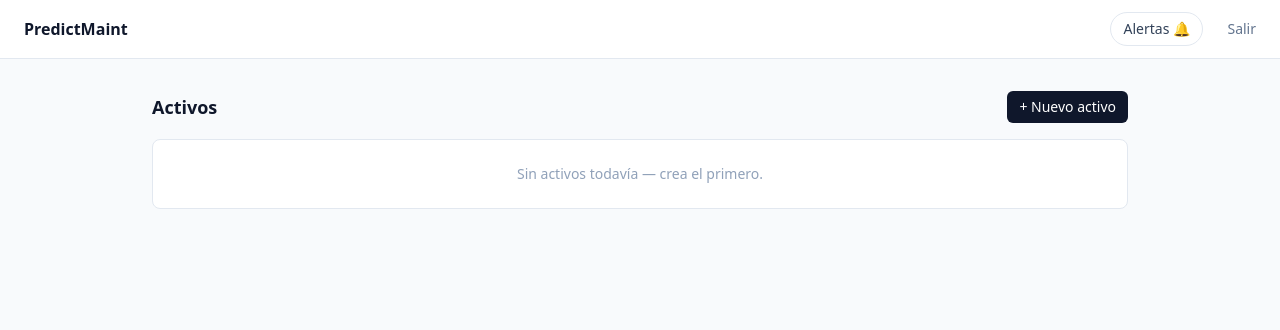
Scenario: AssetListPage › crea un activo nuevo y refresca la lista (UC de alta de activos)
Expected: the text "Sin activos todavía — crea el primero." is shown, [517,164,763,183]
Click the button "+ Nuevo activo". click: (1068, 107)
box: [1007,91,1128,123]
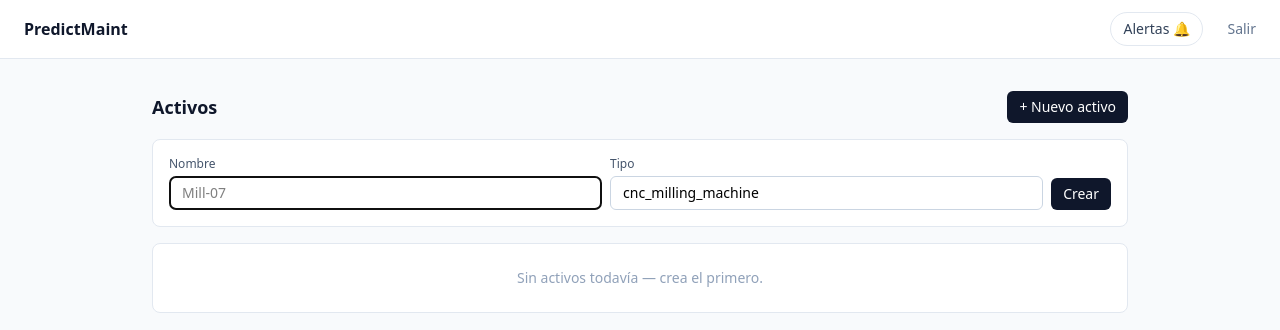
Type "Mill-01" into the field labelled "Nombre". click: (386, 193)
box: [169,176,602,210]
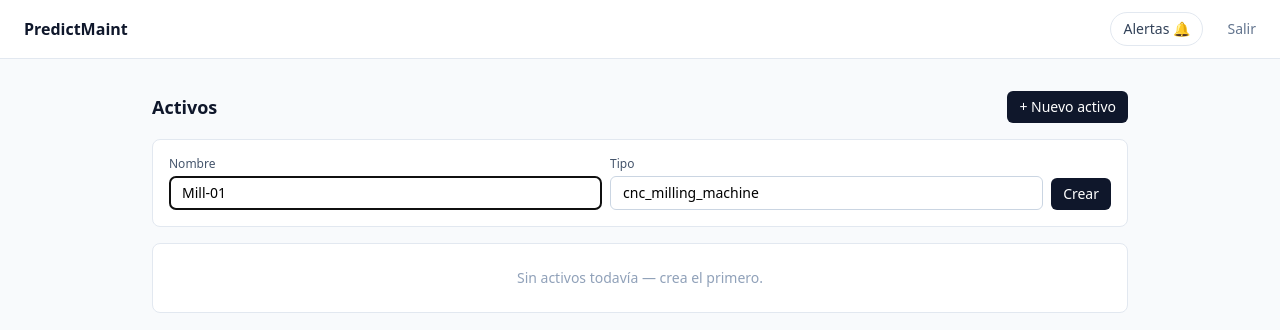
Click the button "Crear". click: (1081, 194)
box: [1051,178,1111,210]
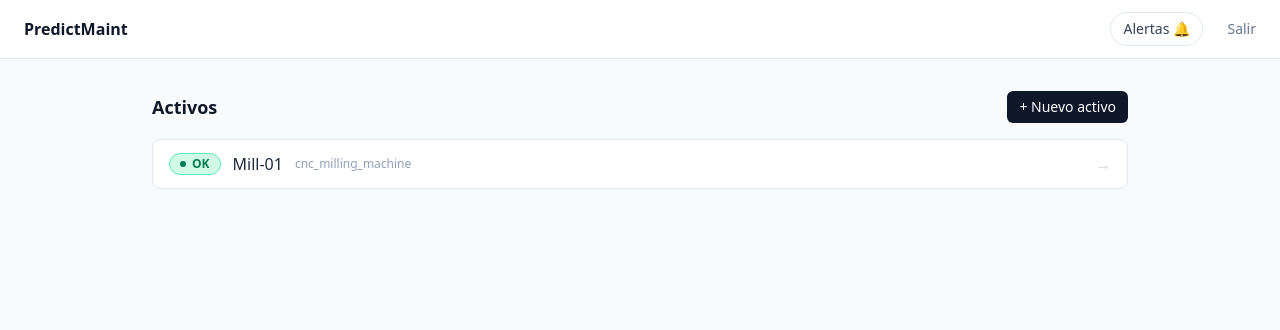
Now the text "Mill-01" is shown, box [232,152,283,176]
Now the label labelled "Nombre" is gone
